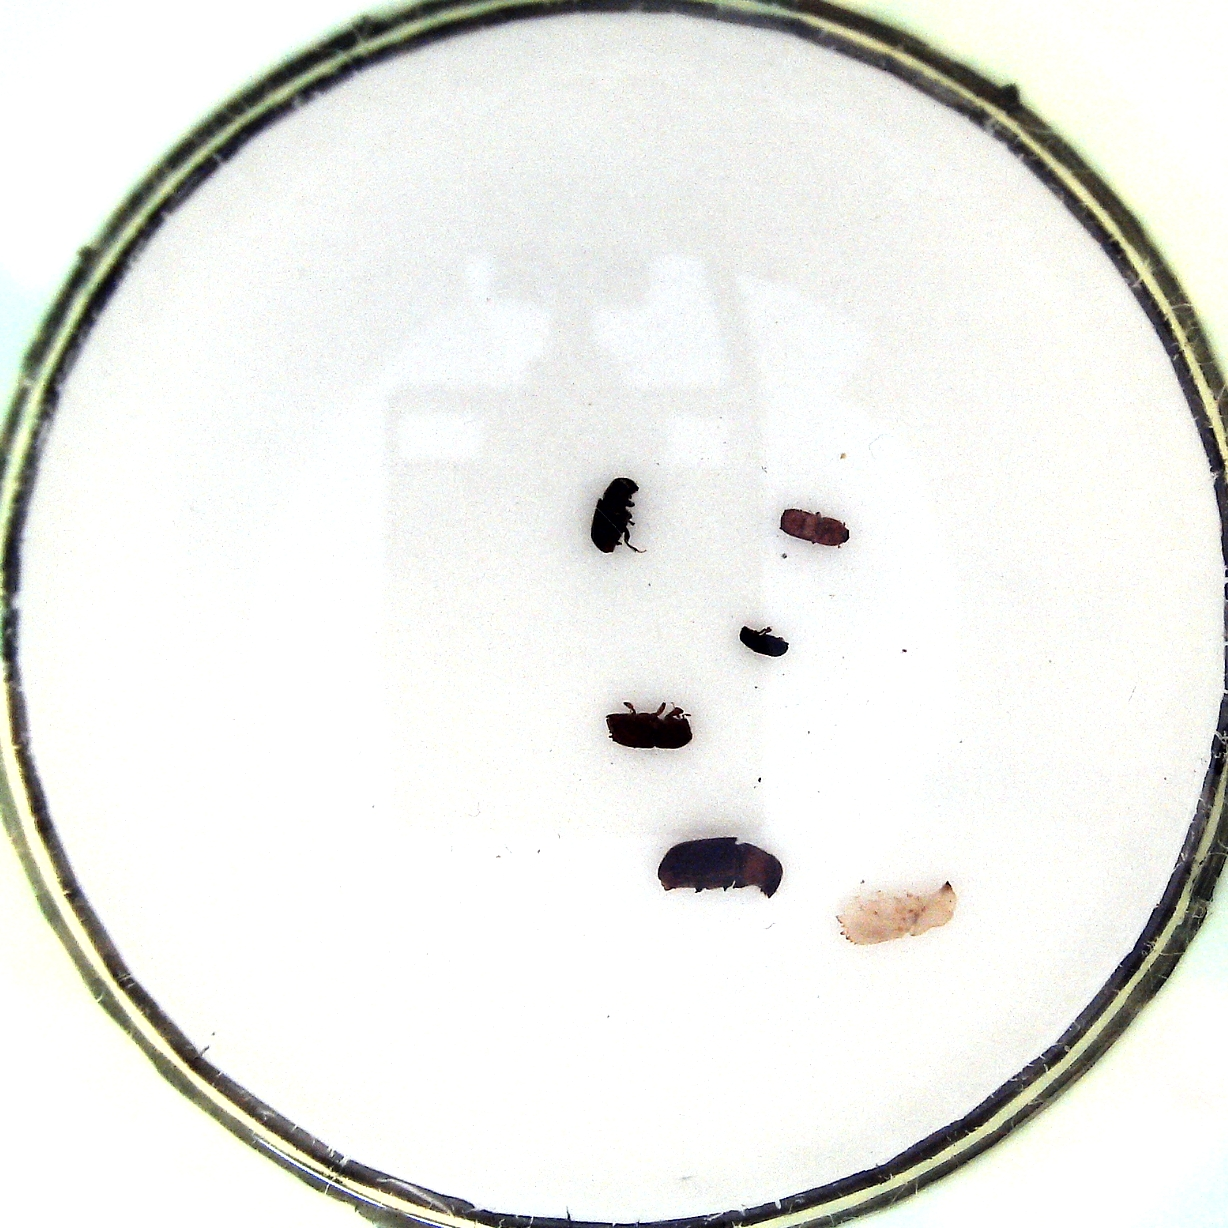Boerner: (828, 879, 964, 948)
Leconte: (650, 830, 784, 895)
Linnaeus: (601, 698, 696, 753)
acuminatus: (777, 505, 854, 553)
armandi: (587, 479, 643, 558)
coleoptera: (733, 621, 791, 663)
